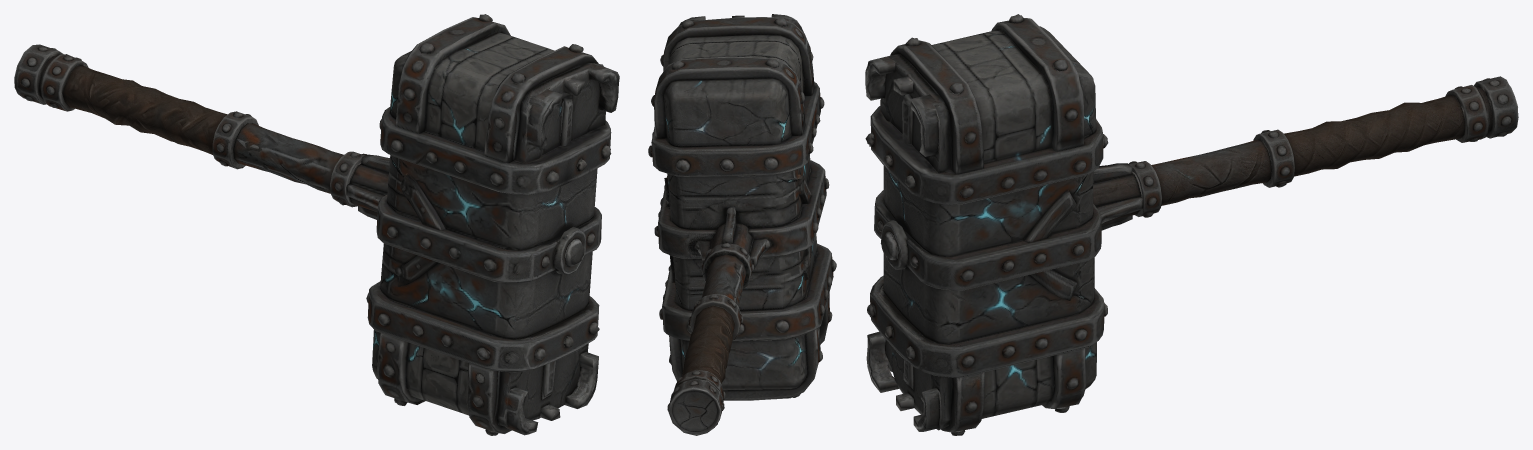
Rendered from korrath_maul.glb.
The picture shows the model from 3 angles, left to right: view 1: azimuth 30°, elevation 25°; view 2: azimuth 150°, elevation 25°; view 3: azimuth 270°, elevation 25°; orthographic projection. The views are drawn at different scales.
Parts seen in each view (by area): view 1: tmp_export; view 2: tmp_export; view 3: tmp_export.
Boxes of the visible parts, box(x1,y1,x2,y2) form: tmp_export: box(14, 14, 619, 435); tmp_export: box(648, 14, 836, 435); tmp_export: box(865, 14, 1518, 435).
Bounding box in the file's own units: 0.5613 × 0.5989 × 0.9521.
1 material, 1 textured.
